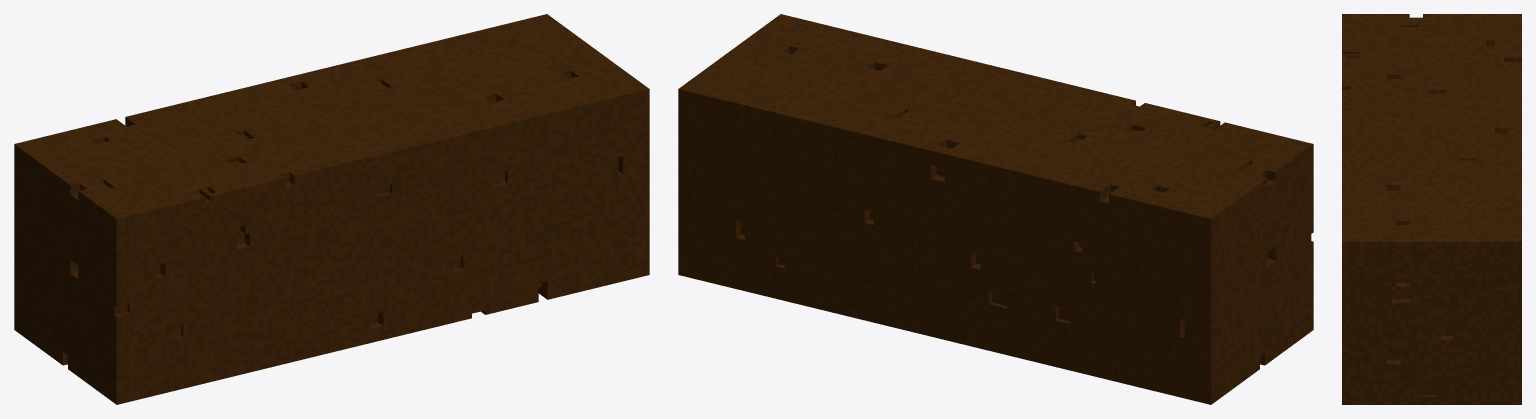
File: LargeRocks-0-Rock3_LOD0.obj
3 views of the same model, side by side, from view 1: azimuth 30°, elevation 25°; view 2: azimuth 150°, elevation 25°; view 3: azimuth 270°, elevation 25° (orthographic). The views are drawn at different scales.
Parts seen in each view (by area): view 1: Rock3_LOD0; view 2: Rock3_LOD0; view 3: Rock3_LOD0.
Boxes of the visible parts, x1,y1,x2,y2 form: Rock3_LOD0: [14, 14, 649, 404]; Rock3_LOD0: [678, 14, 1313, 404]; Rock3_LOD0: [1342, 14, 1521, 404].
Bounding box in the file's own units: 12 × 4 × 4.
Materials: 1 (1 with a texture image).
